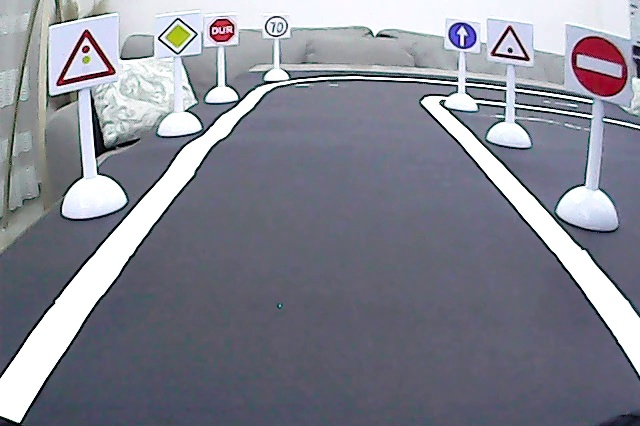do not enter: (567, 32, 631, 101)
green light: (489, 22, 534, 66)
red light: (53, 25, 120, 89)
speed limit 70: (262, 14, 290, 41)
stop sign: (208, 16, 237, 45)
